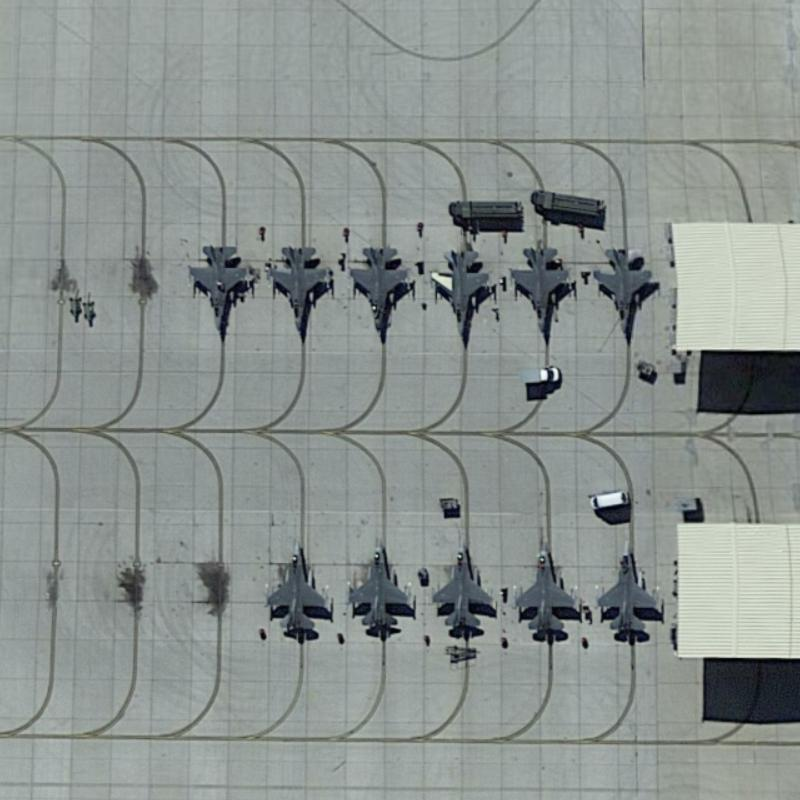A5: (257, 531, 343, 647), (584, 238, 667, 349), (508, 530, 586, 647), (338, 532, 420, 643), (181, 235, 262, 346), (261, 233, 338, 349), (420, 238, 498, 350), (506, 238, 584, 348), (424, 532, 504, 638), (591, 527, 664, 643), (344, 238, 419, 347)
